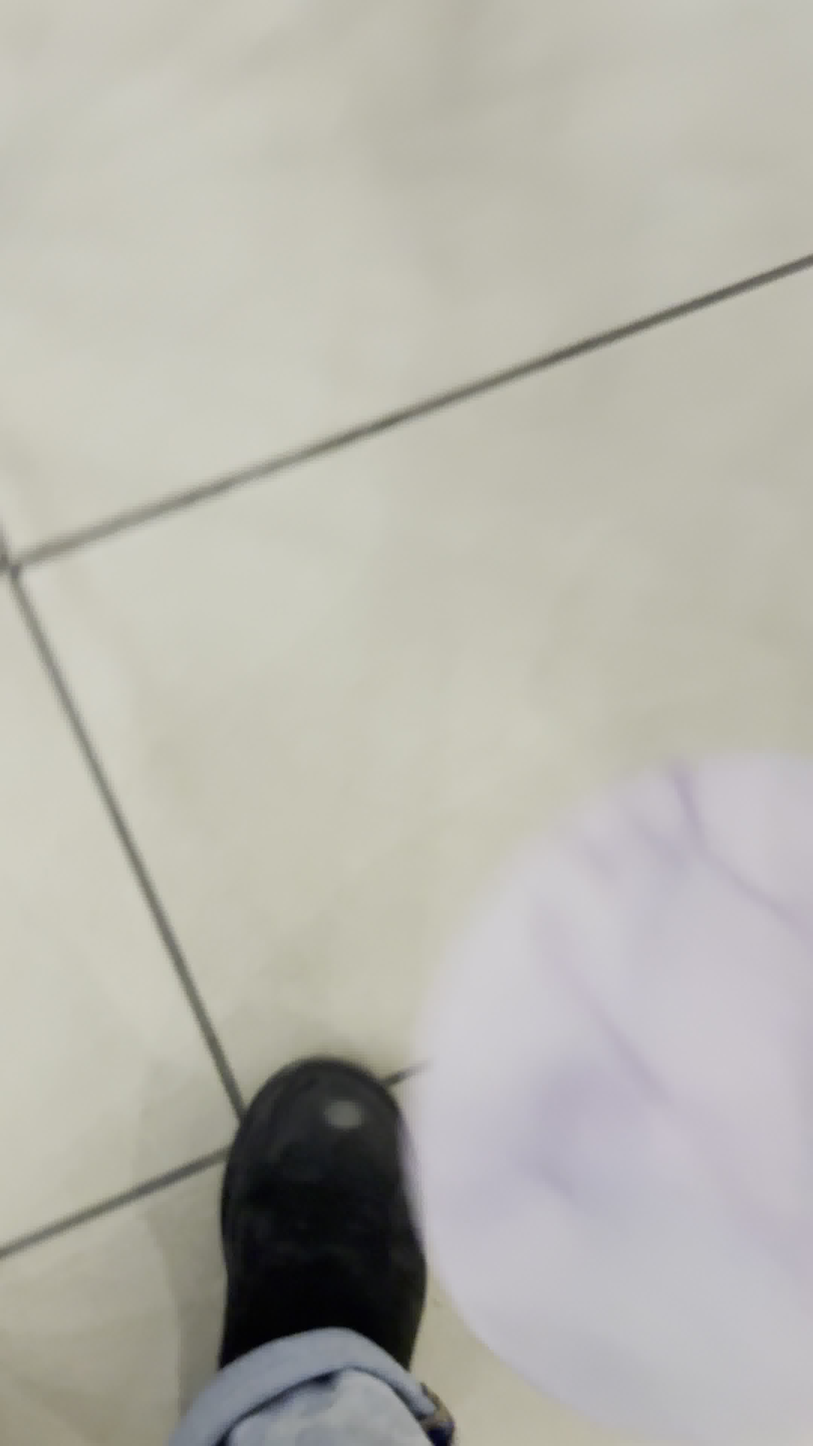Target: (399, 783, 813, 1446)
